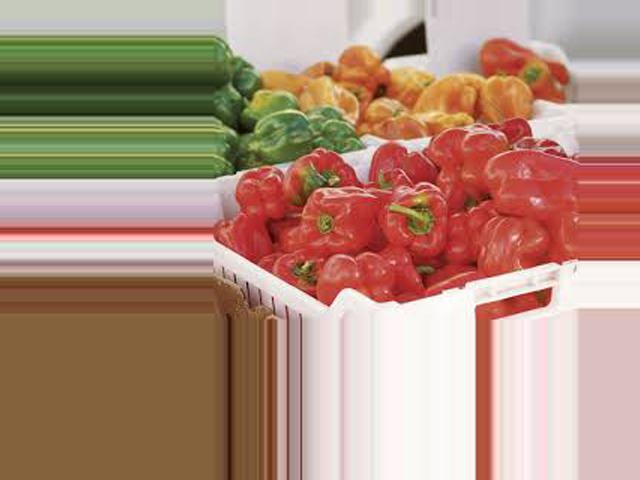bell_pepper: (314, 249, 422, 309)
